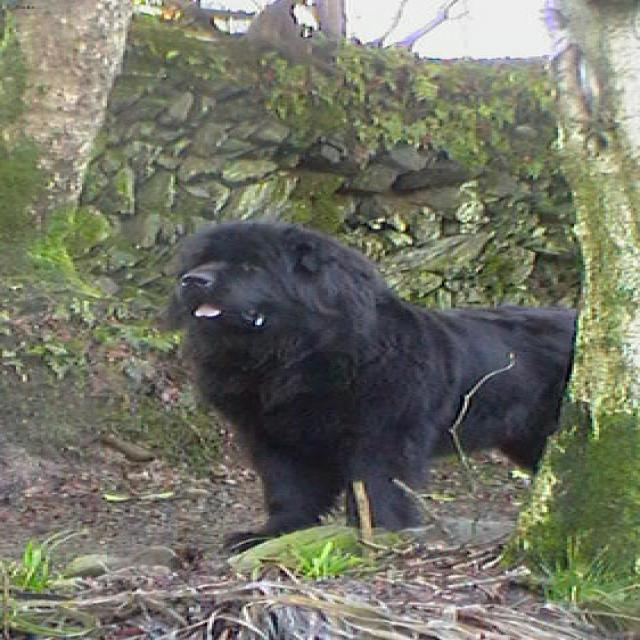dog-newfoundland: (134, 212, 594, 566)
